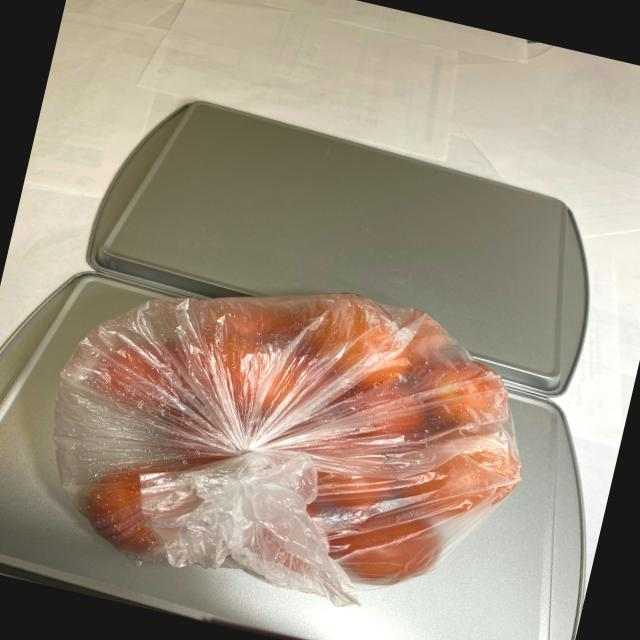tomato: (31, 236, 549, 636)
